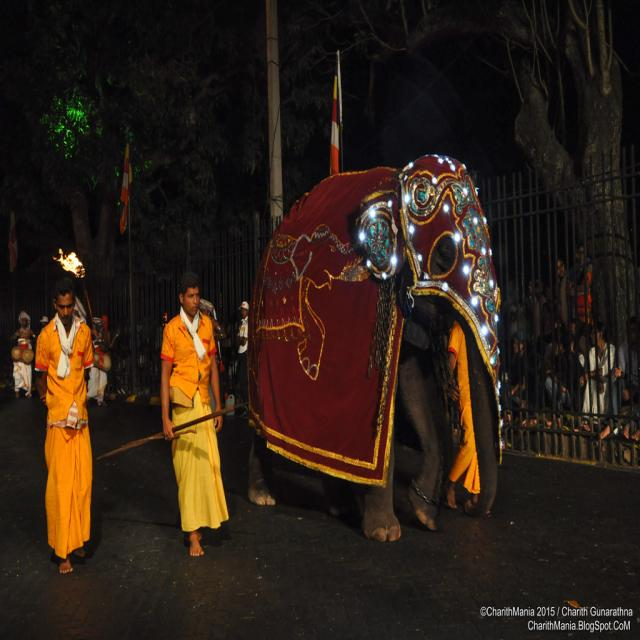elephant: (243, 151, 497, 542)
